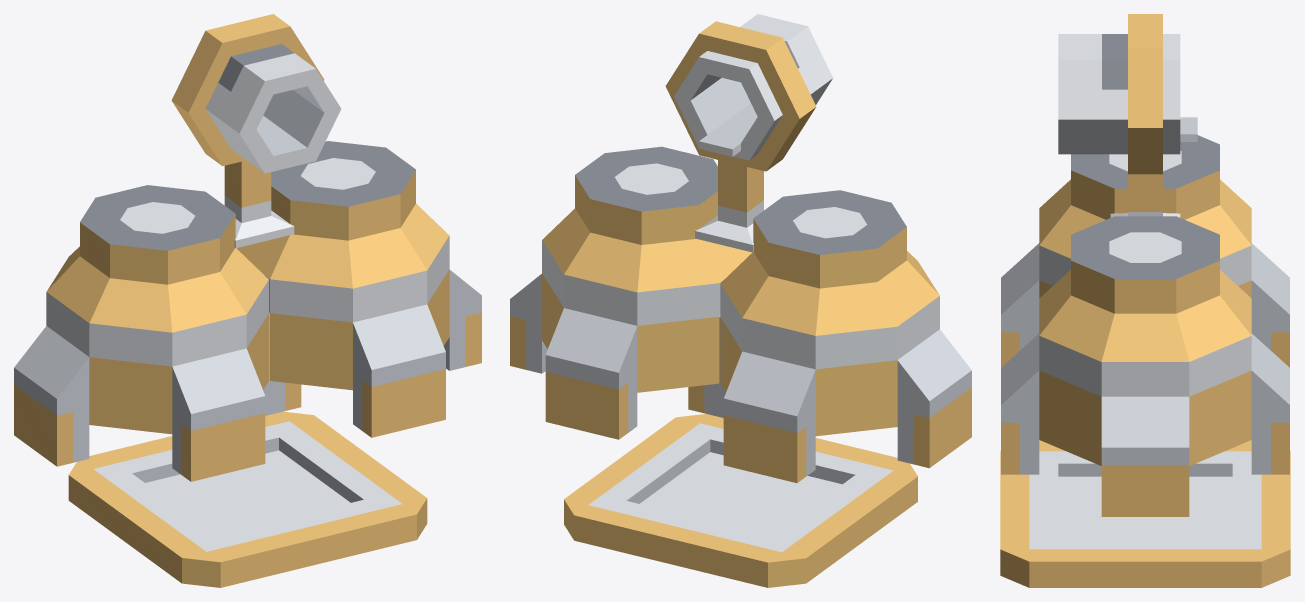
Rendered from building_storage_silo_upgraded.glb.
3 renders of one model, left to right at view 1: azimuth 30°, elevation 25°; view 2: azimuth 150°, elevation 25°; view 3: azimuth 270°, elevation 25°, orthographic. The views are drawn at different scales.
Parts seen in each view (by area): view 1: machine_barrelLarge, machine_barrelLarge.001, platform_small.002, pipe_ringHighEnd; view 2: machine_barrelLarge, machine_barrelLarge.001, platform_small.002, pipe_ringHighEnd; view 3: machine_barrelLarge.001, platform_small.002, machine_barrelLarge, pipe_ringHighEnd.
Part boxes in pixels (<box>): machine_barrelLarge: <box>14,185,301,481</box>; machine_barrelLarge.001: <box>236,141,481,437</box>; platform_small.002: <box>68,411,427,587</box>; pipe_ringHighEnd: <box>171,14,341,248</box>; machine_barrelLarge: <box>688,190,971,482</box>; machine_barrelLarge.001: <box>510,146,752,439</box>; platform_small.002: <box>564,414,917,587</box>; pipe_ringHighEnd: <box>665,14,832,252</box>; machine_barrelLarge.001: <box>1001,216,1289,516</box>; platform_small.002: <box>1000,440,1290,587</box>; machine_barrelLarge: <box>1001,135,1289,367</box>; pipe_ringHighEnd: <box>1058,14,1197,217</box>.
Size of the model in its own units: 2.5 by 2.72 by 1.44.
